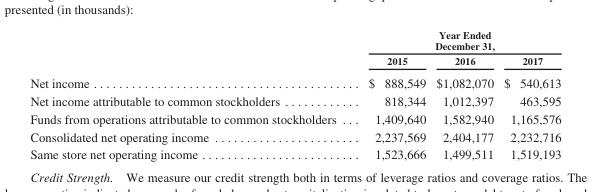table: (29, 28, 560, 161)
table column: (29, 28, 351, 161), (351, 28, 430, 161), (430, 28, 498, 161), (498, 28, 560, 161)
table column header: (29, 28, 560, 70)
table row: (29, 28, 560, 52), (29, 70, 560, 91), (29, 52, 560, 70), (29, 91, 560, 109), (29, 109, 560, 127), (29, 127, 560, 145), (29, 145, 560, 161)
table spanning cell: (351, 28, 560, 52)
